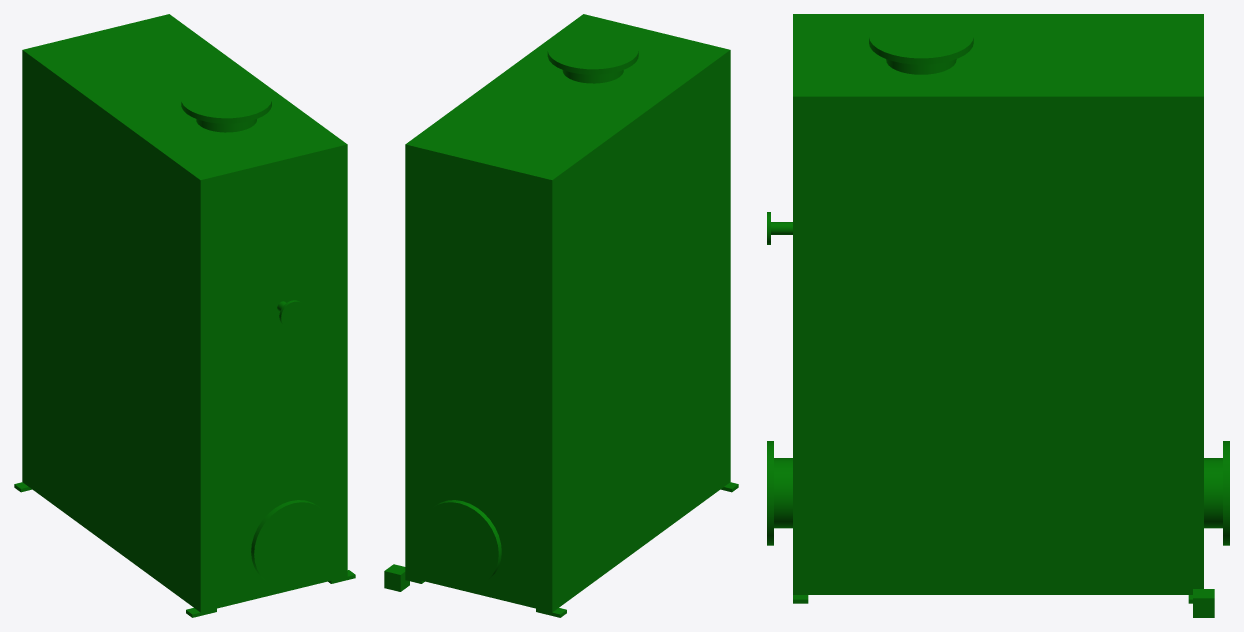
File: Image-1711348148058-2280941572848_71-SM50.fbx
3 renders of one model, left to right at view 1: azimuth 30°, elevation 25°; view 2: azimuth 150°, elevation 25°; view 3: azimuth 270°, elevation 25°, orthographic. The views are drawn at different scales.
Parts seen in each view (by area): view 1: BOX 1 of SUBEQUIPMENT /71-SM50/PRIM, /71-SM50/N1, /71-SM50/N3, /71-SM50/N4; view 2: BOX 1 of SUBEQUIPMENT /71-SM50/PRIM, /71-SM50/N2, /71-SM50/N3, BOX 1 of SUBEQUIPMENT /71-2984WF; view 3: BOX 1 of SUBEQUIPMENT /71-SM50/PRIM, /71-SM50/N3, /71-SM50/N1, /71-SM50/N2, BOX 1 of SUBEQUIPMENT /71-2984WF.
Part boxes in pixels (bbox=[...]): BOX 1 of SUBEQUIPMENT /71-SM50/PRIM: bbox=[22, 14, 347, 612]; /71-SM50/N1: bbox=[251, 500, 332, 586]; /71-SM50/N3: bbox=[181, 80, 271, 132]; /71-SM50/N4: bbox=[277, 300, 305, 328]; BOX 1 of SUBEQUIPMENT /71-SM50/PRIM: bbox=[405, 14, 730, 612]; /71-SM50/N2: bbox=[420, 500, 501, 586]; /71-SM50/N3: bbox=[547, 31, 638, 83]; BOX 1 of SUBEQUIPMENT /71-2984WF: bbox=[384, 564, 409, 591]; BOX 1 of SUBEQUIPMENT /71-SM50/PRIM: bbox=[793, 14, 1203, 594]; /71-SM50/N3: bbox=[869, 14, 973, 74]; /71-SM50/N1: bbox=[767, 441, 792, 545]; /71-SM50/N2: bbox=[1204, 441, 1229, 545]; BOX 1 of SUBEQUIPMENT /71-2984WF: bbox=[1193, 589, 1214, 617].
Size of the model in its own units: 1.05 by 2.13 by 2.72.
